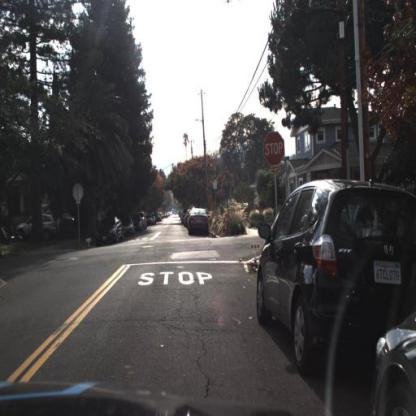car: (254, 172, 416, 369), (19, 214, 59, 240), (187, 209, 212, 238), (95, 222, 126, 245), (123, 214, 136, 237), (138, 210, 148, 231), (133, 217, 144, 235)
